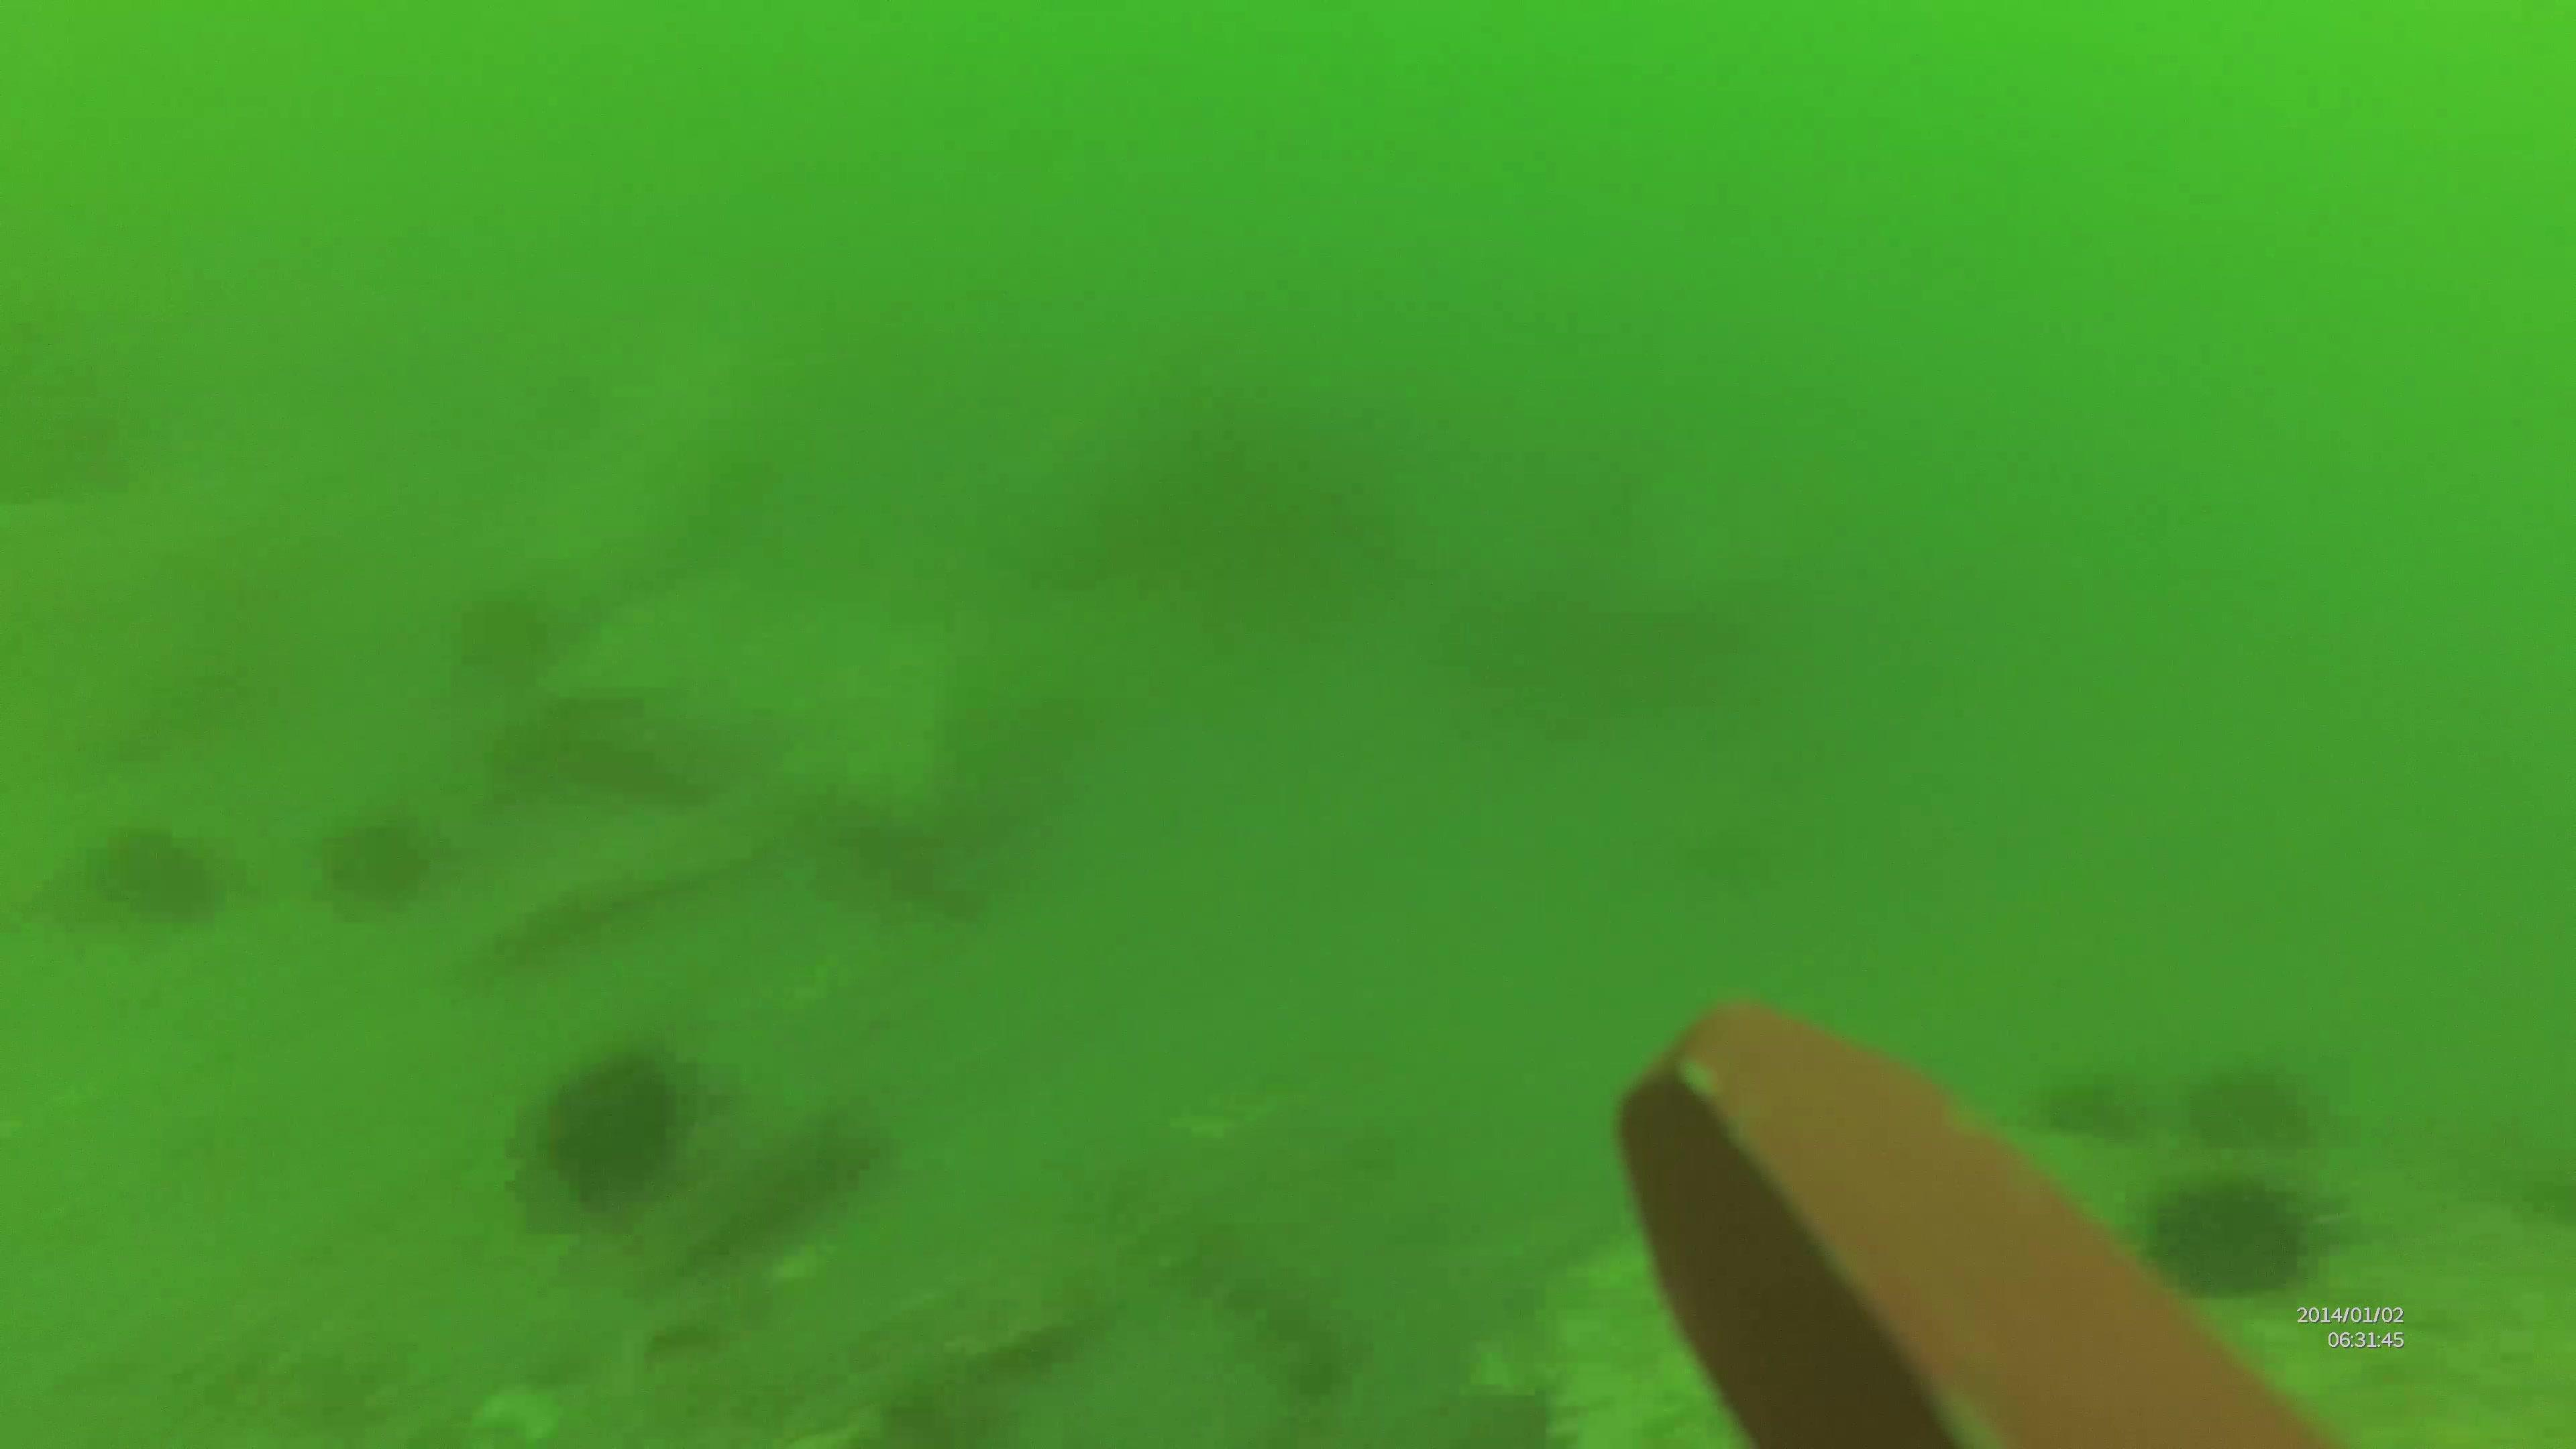echinus: (2141, 1166, 2346, 1304), (536, 1054, 690, 1201), (2196, 1060, 2318, 1175), (106, 826, 223, 929), (317, 816, 430, 915)
holothurian: (1113, 1182, 1366, 1389)
